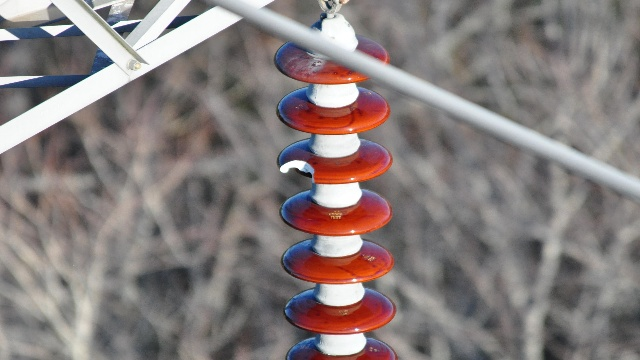broken_local: (279, 159, 318, 188)
insulator_unspecified: (274, 32, 401, 359)
